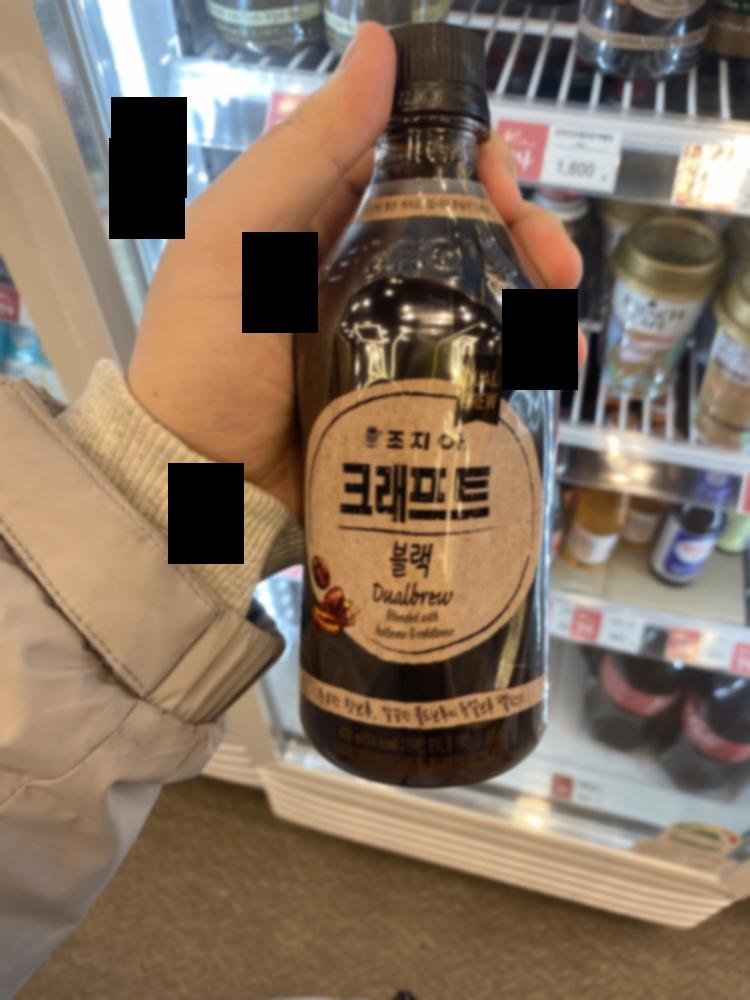georgiacraft_black: (276, 28, 576, 787)
